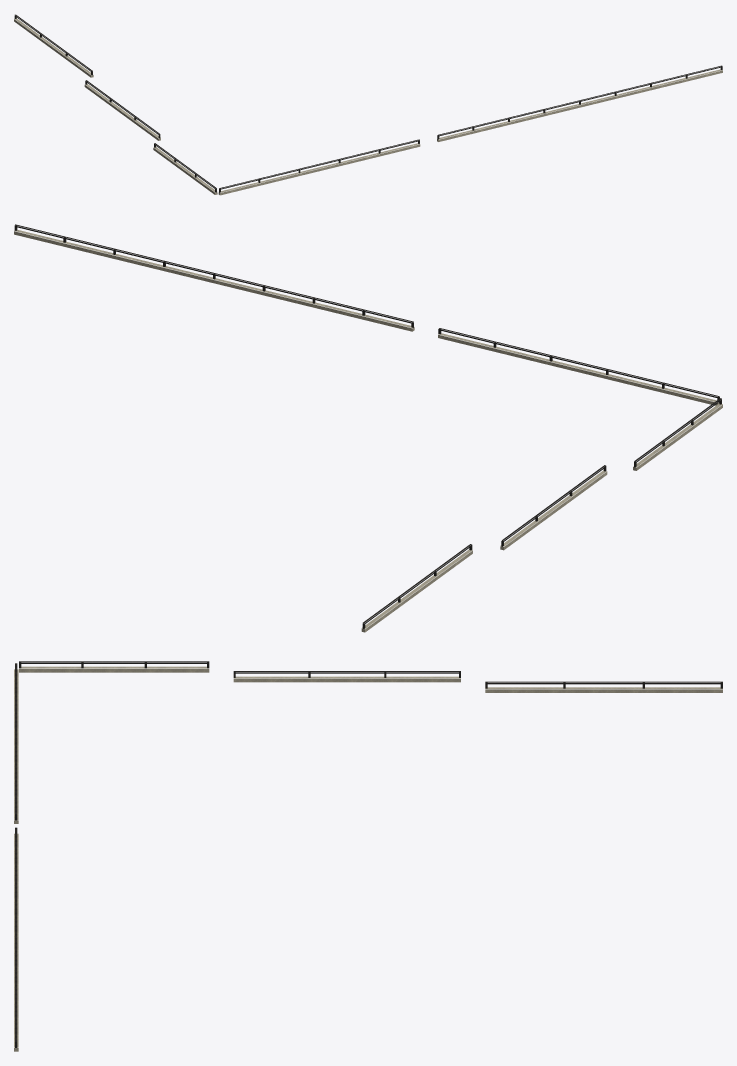
Rendered from pumping_works_grounds_1871__grounds_1867_1871.glb.
3 renders of one model, top to bottom at view 1: azimuth 30°, elevation 25°; view 2: azimuth 150°, elevation 25°; view 3: azimuth 270°, elevation 25°, orthographic. The views are drawn at different scales.
Visible parts, largest first — view 1: pumping_works_grounds_1871__grounds_1867_1871; view 2: pumping_works_grounds_1871__grounds_1867_1871; view 3: pumping_works_grounds_1871__grounds_1867_1871.
Boxes of the visible parts, box(x1,y1,x2,y2) form: pumping_works_grounds_1871__grounds_1867_1871: box(14, 14, 722, 195); pumping_works_grounds_1871__grounds_1867_1871: box(14, 224, 722, 632); pumping_works_grounds_1871__grounds_1867_1871: box(14, 661, 722, 1051).
Bounding box in the file's own units: 89.5 × 1.09 × 70.4.
2 materials, 2 textured.
